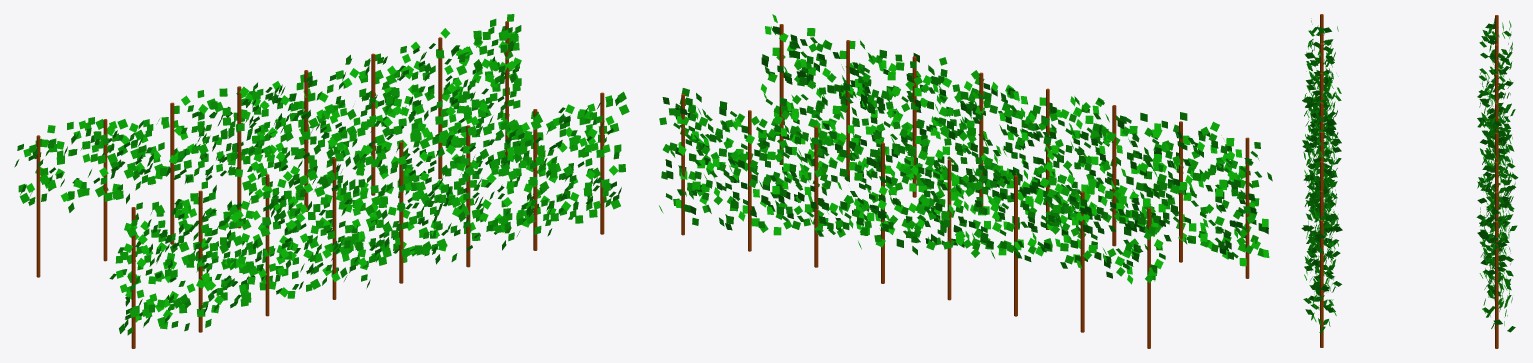
Rendered from cornaredo_vine_2_rows.dae.
The picture shows the model from 3 angles, left to right: view 1: azimuth 30°, elevation 25°; view 2: azimuth 150°, elevation 25°; view 3: azimuth 270°, elevation 25°; orthographic projection. The views are drawn at different scales.
Parts seen in each view (by area): view 1: vine_2, vine_1, sticks_2, sticks_1; view 2: vine_2, vine_1, sticks_1, sticks_2; view 3: vine_2, vine_1, sticks_1, sticks_2.
Boxes of the visible parts, x1,y1,x2,y2 form: vine_2: (109,91,629,335); vine_1: (14,14,529,212); sticks_2: (131,92,604,348); sticks_1: (36,21,508,277); vine_2: (759,14,1272,266); vine_1: (659,88,1165,284); sticks_1: (681,94,1150,348); sticks_2: (779,24,1249,278); vine_2: (1301,18,1342,332); vine_1: (1476,18,1518,332); sticks_1: (1495,15,1498,348); sticks_2: (1320,14,1323,347).
Size of the model in its own units: 7.59 by 3.11 by 2.04.
